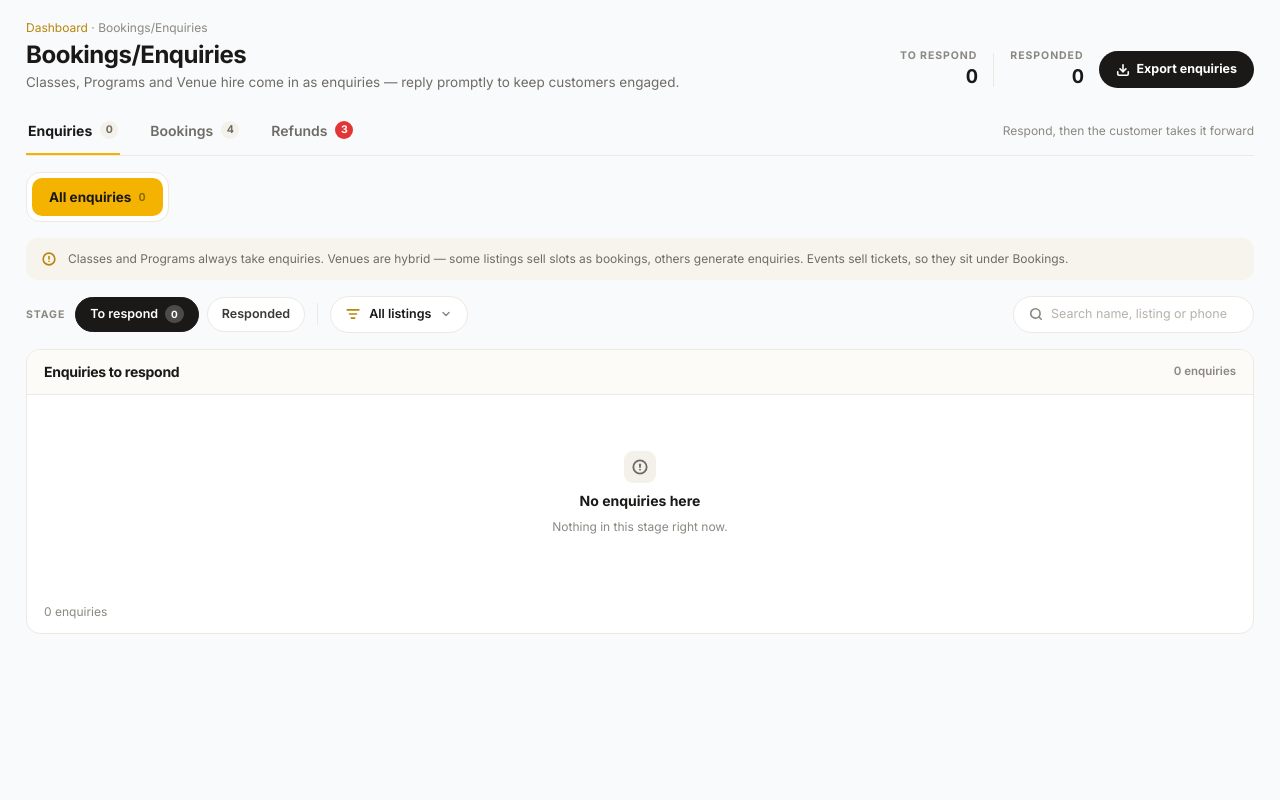
Scenario: Bookings/Enquiries — Refunds tab › shows every refund with its current status — never "Refunded" before it settles
What coordinates should you click on to do the following:
click the button "Refunds 3"
I would click on:
 (312, 131)
Its box is x1=269 y1=108 x2=356 y2=155.
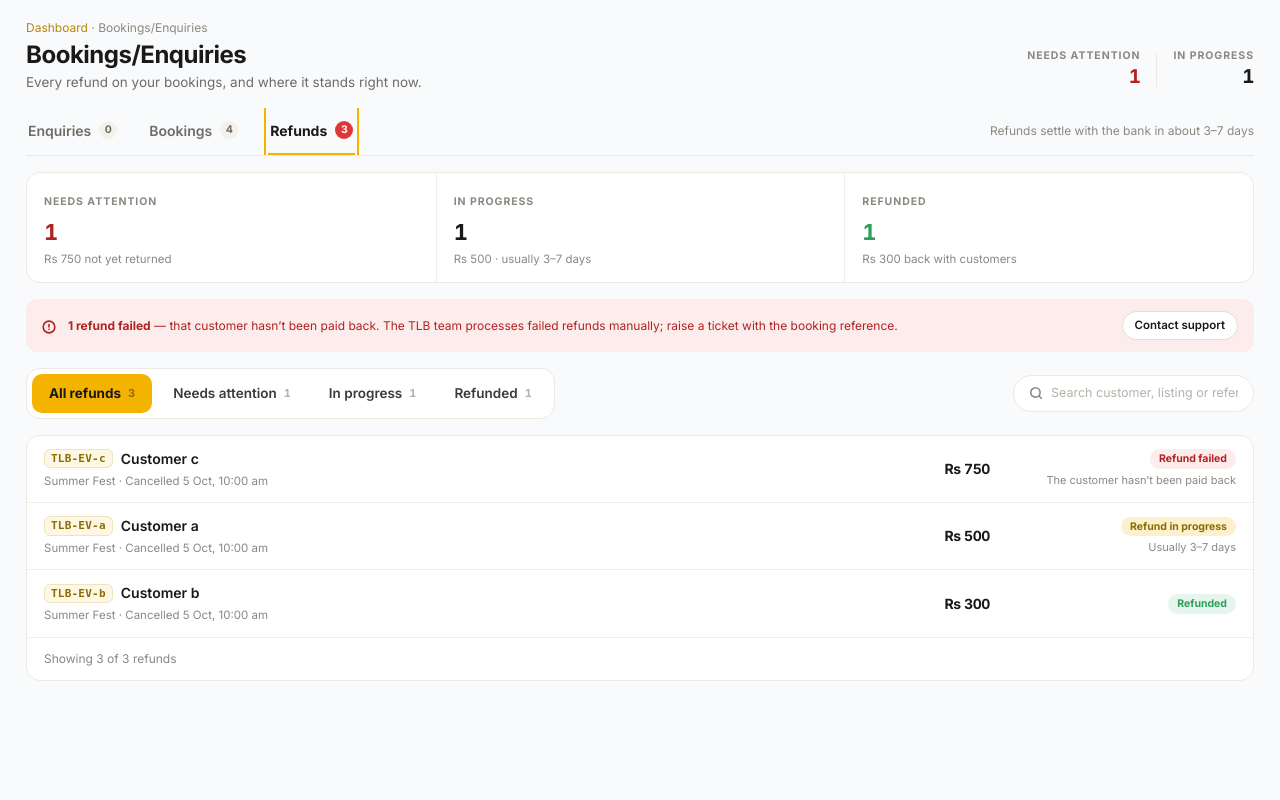
Expected: the text "Every refund on your bookings, and where it stands right now." is shown, x1=26 y1=72 x2=422 y2=92
Expected: the text "Refund in progress" is shown, x1=1121 y1=516 x2=1236 y2=536
Expected: the text "Usually 3–7 days" is shown, x1=1148 y1=540 x2=1236 y2=556
